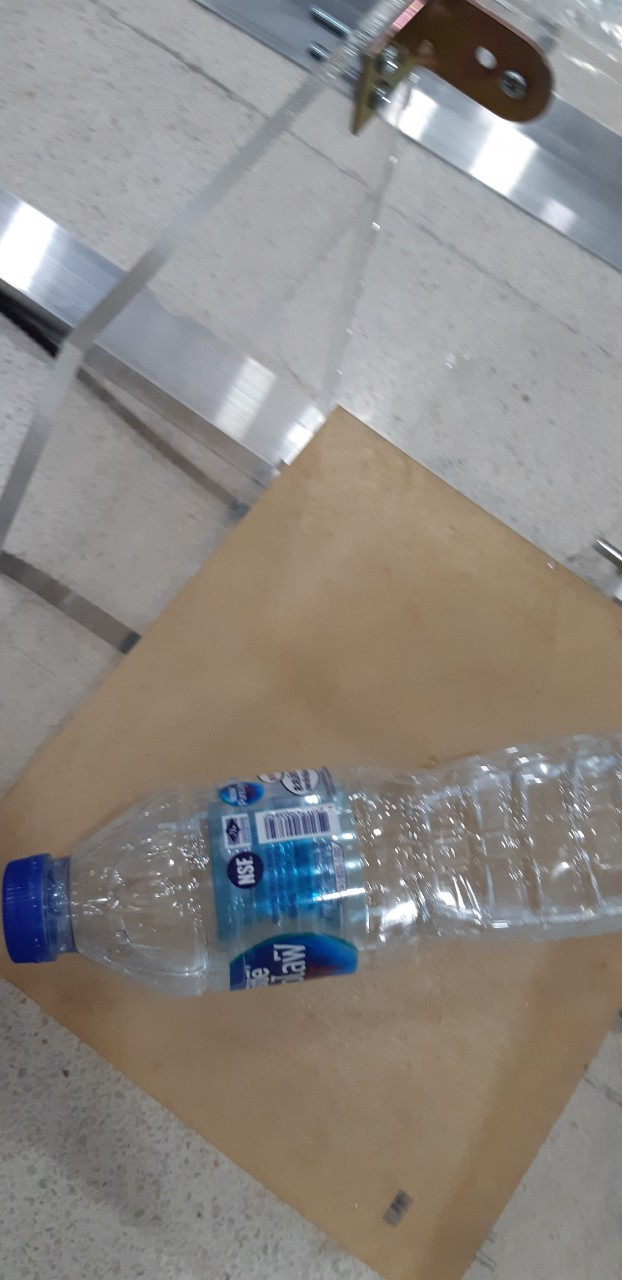PlasticBottle: (6, 737, 622, 999)
